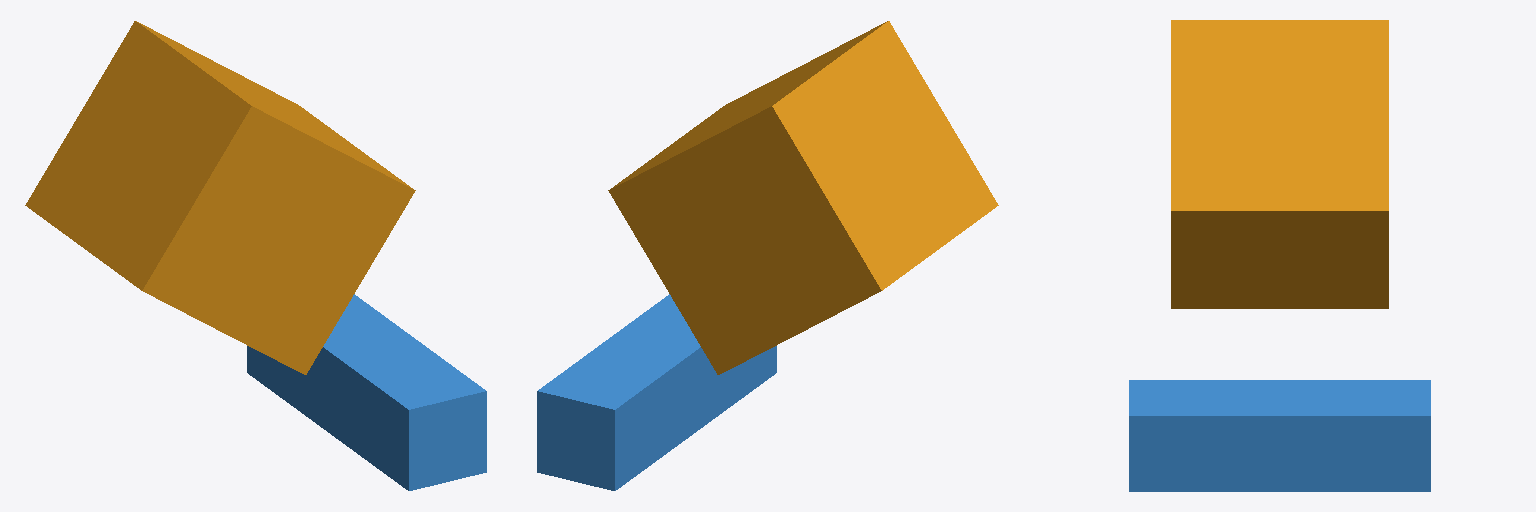
URDF robot description (d435i):
<?xml version="1.0"?>
<!--
  Static transforms between the RealSense D435i frames and the Mid-360 odom frame.
  Generated from static_transforms.py.

  RealSense D435i frame transforms are transcribed from the official realsense2_description
  xacro (use_nominal_extrinsics=true). Mid-360 geometry is from the Livox Mid-360 manual and
  the lidar-to-IMU extrinsic in dimos/hardware/sensors/lidar/fastlio2/config/mid360.yaml.

  FAST-LIO odometry is the IMU ("body") frame, tracked here as imu_frame (NOT lidar_frame).
-->
<robot name="d435i">

  <link name="d435i"/>

  <link name="bottom_screw_frame">
    <visual>
      <!-- D435i body box (90 x 25 x 25 mm), bottom face on the screw plane. -->
      <origin xyz="0 0 0.0125" rpy="0 0 0"/>
      <geometry>
        <box size="0.025 0.09 0.025"/>
      </geometry>
      <material name="camera_blue">
        <color rgba="0.313725 0.627451 0.901961 1.0"/>
      </material>
    </visual>
  </link>

  <link name="world"/>
  <link name="link"/>
  <link name="depth_frame"/>
  <link name="depth_optical_frame"/>
  <link name="infra1_frame"/>
  <link name="infra1_optical_frame"/>
  <link name="infra2_frame"/>
  <link name="infra2_optical_frame"/>
  <link name="color_frame"/>
  <link name="color_optical_frame"/>
  <link name="accel_frame"/>
  <link name="accel_optical_frame"/>
  <link name="gyro_frame"/>
  <link name="gyro_optical_frame"/>
  <link name="box_pitch_frame"/>

  <link name="box_center">
    <visual>
      <!-- Mid-360 body box (65 x 65 x 60 mm), centered on box_center. -->
      <origin xyz="0 0 0" rpy="0 0 0"/>
      <geometry>
        <box size="0.065 0.065 0.06"/>
      </geometry>
      <material name="lidar_orange">
        <color rgba="0.901961 0.627451 0.156863 1.0"/>
      </material>
    </visual>
  </link>

  <link name="lidar_frame"/>
  <link name="imu_frame"/>

  <joint name="d435i_to_bottom_screw_frame" type="fixed">
    <parent link="d435i"/>
    <child link="bottom_screw_frame"/>
    <origin xyz="0 0 0" rpy="0 0 0"/>
  </joint>

  <!-- world: screw frame pitched down by CAMERA_ANGLE_UP (10 deg) into a gravity-flat frame. -->
  <joint name="bottom_screw_frame_to_world" type="fixed">
    <parent link="bottom_screw_frame"/>
    <child link="world"/>
    <origin xyz="0 0 0" rpy="0 0.17453292519943295 0"/>
  </joint>

  <!-- MESH_X_OFFSET=0.0106, DEPTH_PY=0.0175, DEPTH_PZ=0.0125 -->
  <joint name="bottom_screw_frame_to_link" type="fixed">
    <parent link="bottom_screw_frame"/>
    <child link="link"/>
    <origin xyz="0.0106 0.0175 0.0125" rpy="0 0 0"/>
  </joint>

  <joint name="link_to_depth_frame" type="fixed">
    <parent link="link"/>
    <child link="depth_frame"/>
    <origin xyz="0 0 0" rpy="0 0 0"/>
  </joint>

  <!-- OPTICAL_RPY = (-pi/2, 0, -pi/2) -->
  <joint name="depth_frame_to_depth_optical_frame" type="fixed">
    <parent link="depth_frame"/>
    <child link="depth_optical_frame"/>
    <origin xyz="0 0 0" rpy="-1.5707963267948966 0 -1.5707963267948966"/>
  </joint>

  <joint name="link_to_infra1_frame" type="fixed">
    <parent link="link"/>
    <child link="infra1_frame"/>
    <origin xyz="0 0 0" rpy="0 0 0"/>
  </joint>

  <joint name="infra1_frame_to_infra1_optical_frame" type="fixed">
    <parent link="infra1_frame"/>
    <child link="infra1_optical_frame"/>
    <origin xyz="0 0 0" rpy="-1.5707963267948966 0 -1.5707963267948966"/>
  </joint>

  <!-- DEPTH_TO_INFRA2_OFFSET = -0.050 -->
  <joint name="link_to_infra2_frame" type="fixed">
    <parent link="link"/>
    <child link="infra2_frame"/>
    <origin xyz="0 -0.05 0" rpy="0 0 0"/>
  </joint>

  <joint name="infra2_frame_to_infra2_optical_frame" type="fixed">
    <parent link="infra2_frame"/>
    <child link="infra2_optical_frame"/>
    <origin xyz="0 0 0" rpy="-1.5707963267948966 0 -1.5707963267948966"/>
  </joint>

  <!-- DEPTH_TO_COLOR_OFFSET = 0.015 -->
  <joint name="link_to_color_frame" type="fixed">
    <parent link="link"/>
    <child link="color_frame"/>
    <origin xyz="0 0.015 0" rpy="0 0 0"/>
  </joint>

  <joint name="color_frame_to_color_optical_frame" type="fixed">
    <parent link="color_frame"/>
    <child link="color_optical_frame"/>
    <origin xyz="0 0 0" rpy="-1.5707963267948966 0 -1.5707963267948966"/>
  </joint>

  <!-- IMU_XYZ = (-0.01174, -0.00552, 0.0051) -->
  <joint name="link_to_accel_frame" type="fixed">
    <parent link="link"/>
    <child link="accel_frame"/>
    <origin xyz="-0.01174 -0.00552 0.0051" rpy="0 0 0"/>
  </joint>

  <joint name="accel_frame_to_accel_optical_frame" type="fixed">
    <parent link="accel_frame"/>
    <child link="accel_optical_frame"/>
    <origin xyz="0 0 0" rpy="-1.5707963267948966 0 -1.5707963267948966"/>
  </joint>

  <joint name="link_to_gyro_frame" type="fixed">
    <parent link="link"/>
    <child link="gyro_frame"/>
    <origin xyz="-0.01174 -0.00552 0.0051" rpy="0 0 0"/>
  </joint>

  <joint name="gyro_frame_to_gyro_optical_frame" type="fixed">
    <parent link="gyro_frame"/>
    <child link="gyro_optical_frame"/>
    <origin xyz="0 0 0" rpy="-1.5707963267948966 0 -1.5707963267948966"/>
  </joint>

  <!-- BOX_PITCH_DOWN = 26 deg + CAMERA_ANGLE_UP (10 deg) = 36 deg = 0.6283185307179586 rad -->
  <joint name="bottom_screw_frame_to_box_pitch_frame" type="fixed">
    <parent link="bottom_screw_frame"/>
    <child link="box_pitch_frame"/>
    <origin xyz="0 0 0" rpy="0 0.6283185307179586 0"/>
  </joint>

  <!-- BOX_BACK = 0.085, BOX_UP = 0.037 -->
  <joint name="box_pitch_frame_to_box_center" type="fixed">
    <parent link="box_pitch_frame"/>
    <child link="box_center"/>
    <origin xyz="-0.085 0 0.037" rpy="0 0 0"/>
  </joint>

  <!-- LIDAR_ABOVE_BOX_CENTER = 0.017 (point-cloud origin O above box center) -->
  <joint name="box_center_to_lidar_frame" type="fixed">
    <parent link="box_center"/>
    <child link="lidar_frame"/>
    <origin xyz="0 0 0.017" rpy="0 0 0"/>
  </joint>

  <!-- IMU_IN_LIDAR = (0.011, 0.02329, -0.04412): IMU position in point-cloud coords. -->
  <joint name="lidar_frame_to_imu_frame" type="fixed">
    <parent link="lidar_frame"/>
    <child link="imu_frame"/>
    <origin xyz="0.011 0.02329 -0.04412" rpy="0 0 0"/>
  </joint>

</robot>

--- What the picture shows (computed from the rendered views, not written in the file) ---
The picture shows the robot from 3 angles, left to right: view 1: azimuth 30°, elevation 25°; view 2: azimuth 150°, elevation 25°; view 3: azimuth 270°, elevation 25°; orthographic projection.
Model d435i with 20 links and 19 joints (19 fixed), rooted at d435i, posed all joints at 0.
Visible links, largest first — view 1: box_center, bottom_screw_frame; view 2: box_center, bottom_screw_frame; view 3: box_center, bottom_screw_frame.
Link boxes in pixels (bbox=[...]): box_center: bbox=[25, 21, 415, 374]; bottom_screw_frame: bbox=[247, 294, 486, 490]; box_center: bbox=[608, 21, 998, 374]; bottom_screw_frame: bbox=[537, 294, 776, 490]; box_center: bbox=[1171, 20, 1388, 308]; bottom_screw_frame: bbox=[1129, 380, 1430, 491].
Size in the robot's own frame: 0.1034 by 0.09 by 0.1233 metres.
Geometry: primitives only (box / cylinder / sphere), no mesh files.
